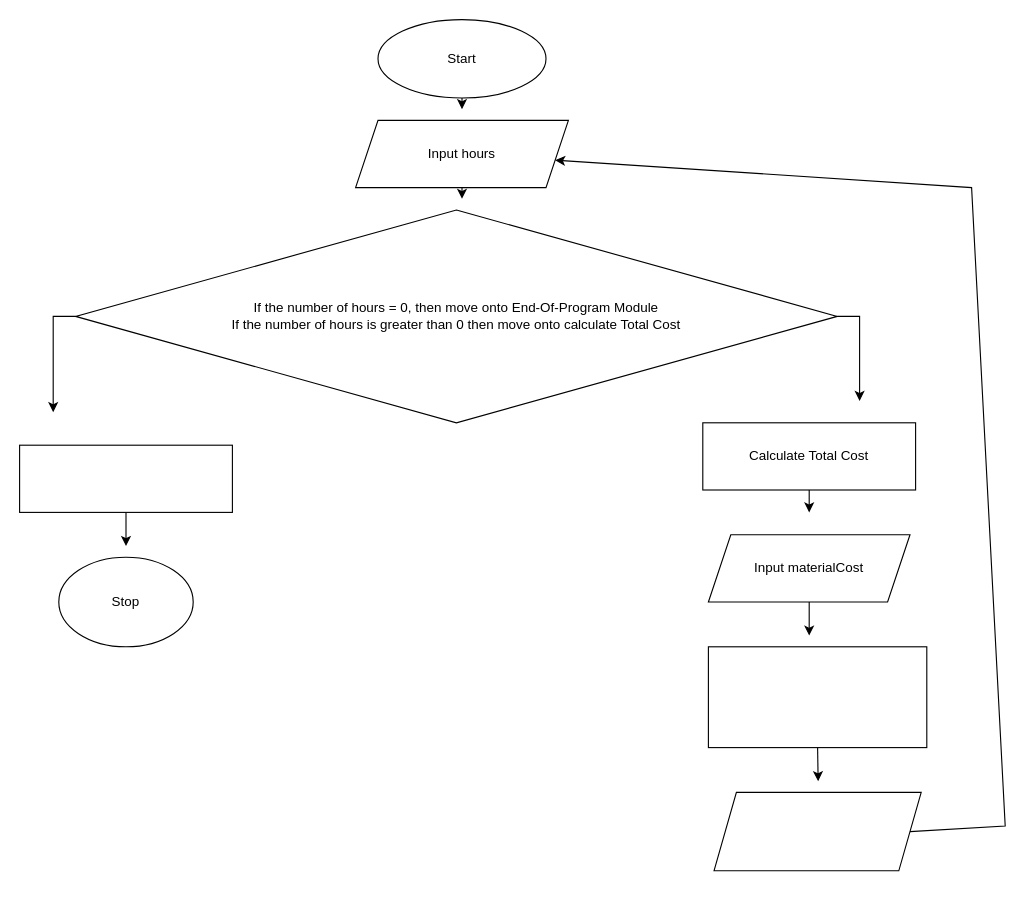
Image size: 1034x899. Some labels were removed from this diagram. The box of each missing label's shape, as (x1, y1, x2, y2) in pixels:
Display toalCost: (713, 791, 921, 871)
End-Of-Program: (18, 444, 232, 512)
Total Cost = (hours x $30) = (1.2 x material cost): (707, 646, 927, 748)
